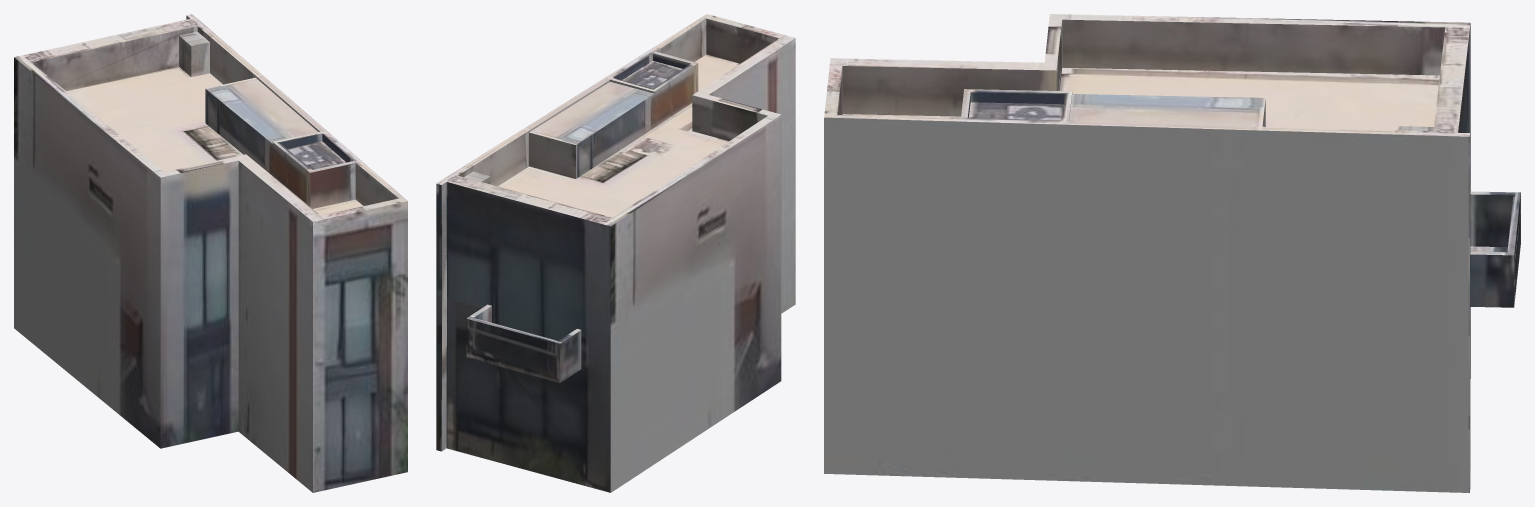
3 views of the same model, side by side, from view 1: azimuth 30°, elevation 25°; view 2: azimuth 150°, elevation 25°; view 3: azimuth 270°, elevation 25° (orthographic). The views are drawn at different scales.
Parts seen in each view (by area): view 1: B284774037701062A0; view 2: B284774037701062A0; view 3: B284774037701062A0.
Boxes of the visible parts, x1,y1,x2,y2 form: B284774037701062A0: (14,14,407,492); B284774037701062A0: (436,14,795,492); B284774037701062A0: (824,14,1520,492).
Bounding box in the file's own units: 6.78 × 9.19 × 16.28.
1 material, 1 textured.
